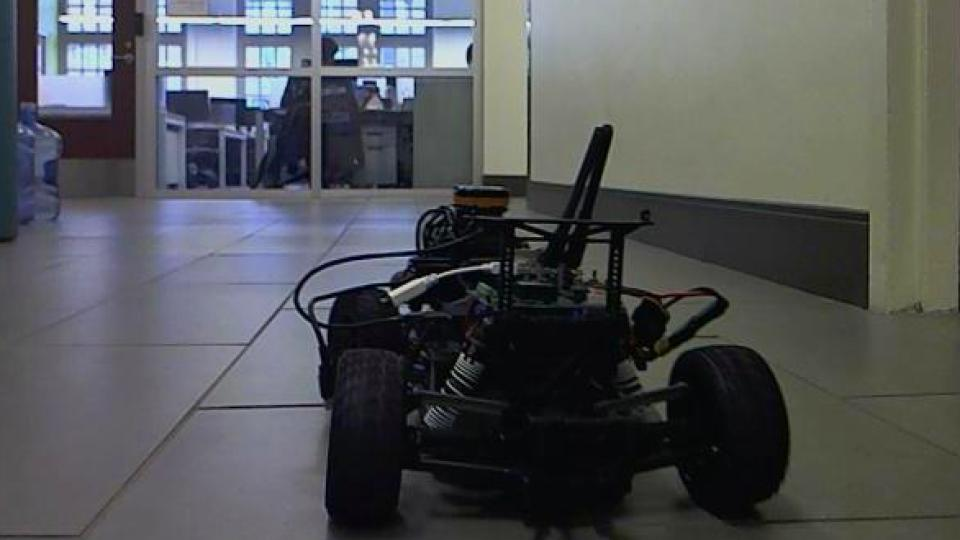car: (290, 120, 793, 540)
